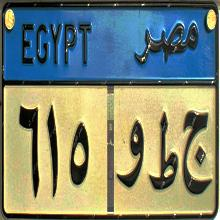1: (44, 101, 63, 201)
5: (66, 113, 95, 191)
6: (17, 102, 41, 206)
Taa: (148, 107, 179, 192)
jeem: (182, 109, 213, 201)
waw: (115, 112, 146, 190)
